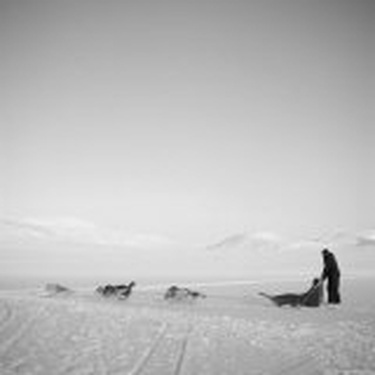dog: (29, 274, 80, 310), (149, 274, 192, 316), (166, 278, 207, 309), (91, 278, 128, 309), (107, 275, 138, 304)
